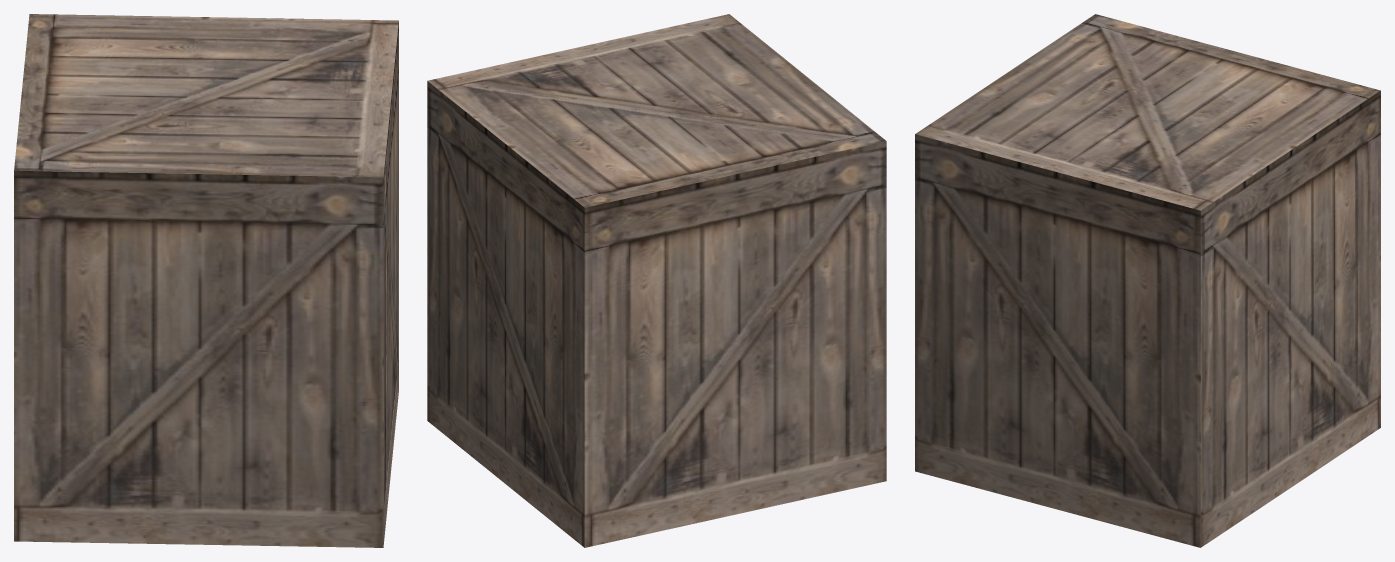
3 views of the same model, side by side, from view 1: azimuth 30°, elevation 25°; view 2: azimuth 150°, elevation 25°; view 3: azimuth 270°, elevation 25° (orthographic). The views are drawn at different scales.
Visible parts, largest first — view 1: C005_Boxs_08_0; view 2: C005_Boxs_08_0; view 3: C005_Boxs_08_0.
Boxes of the visible parts, x1=… form: C005_Boxs_08_0: x1=14, y1=14, x2=398, y2=547; C005_Boxs_08_0: x1=427, y1=14, x2=886, y2=547; C005_Boxs_08_0: x1=915, y1=14, x2=1380, y2=547.
Bounding box in the file's own units: 1.09 × 0.8724 × 1.09.
Materials: 1 (1 with a texture image).
